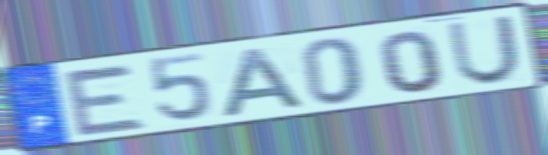0: (375, 26, 447, 96), (298, 35, 367, 107)
5: (146, 50, 216, 126)
A: (219, 45, 311, 120)
E: (59, 62, 150, 139)
U: (445, 12, 524, 87)
